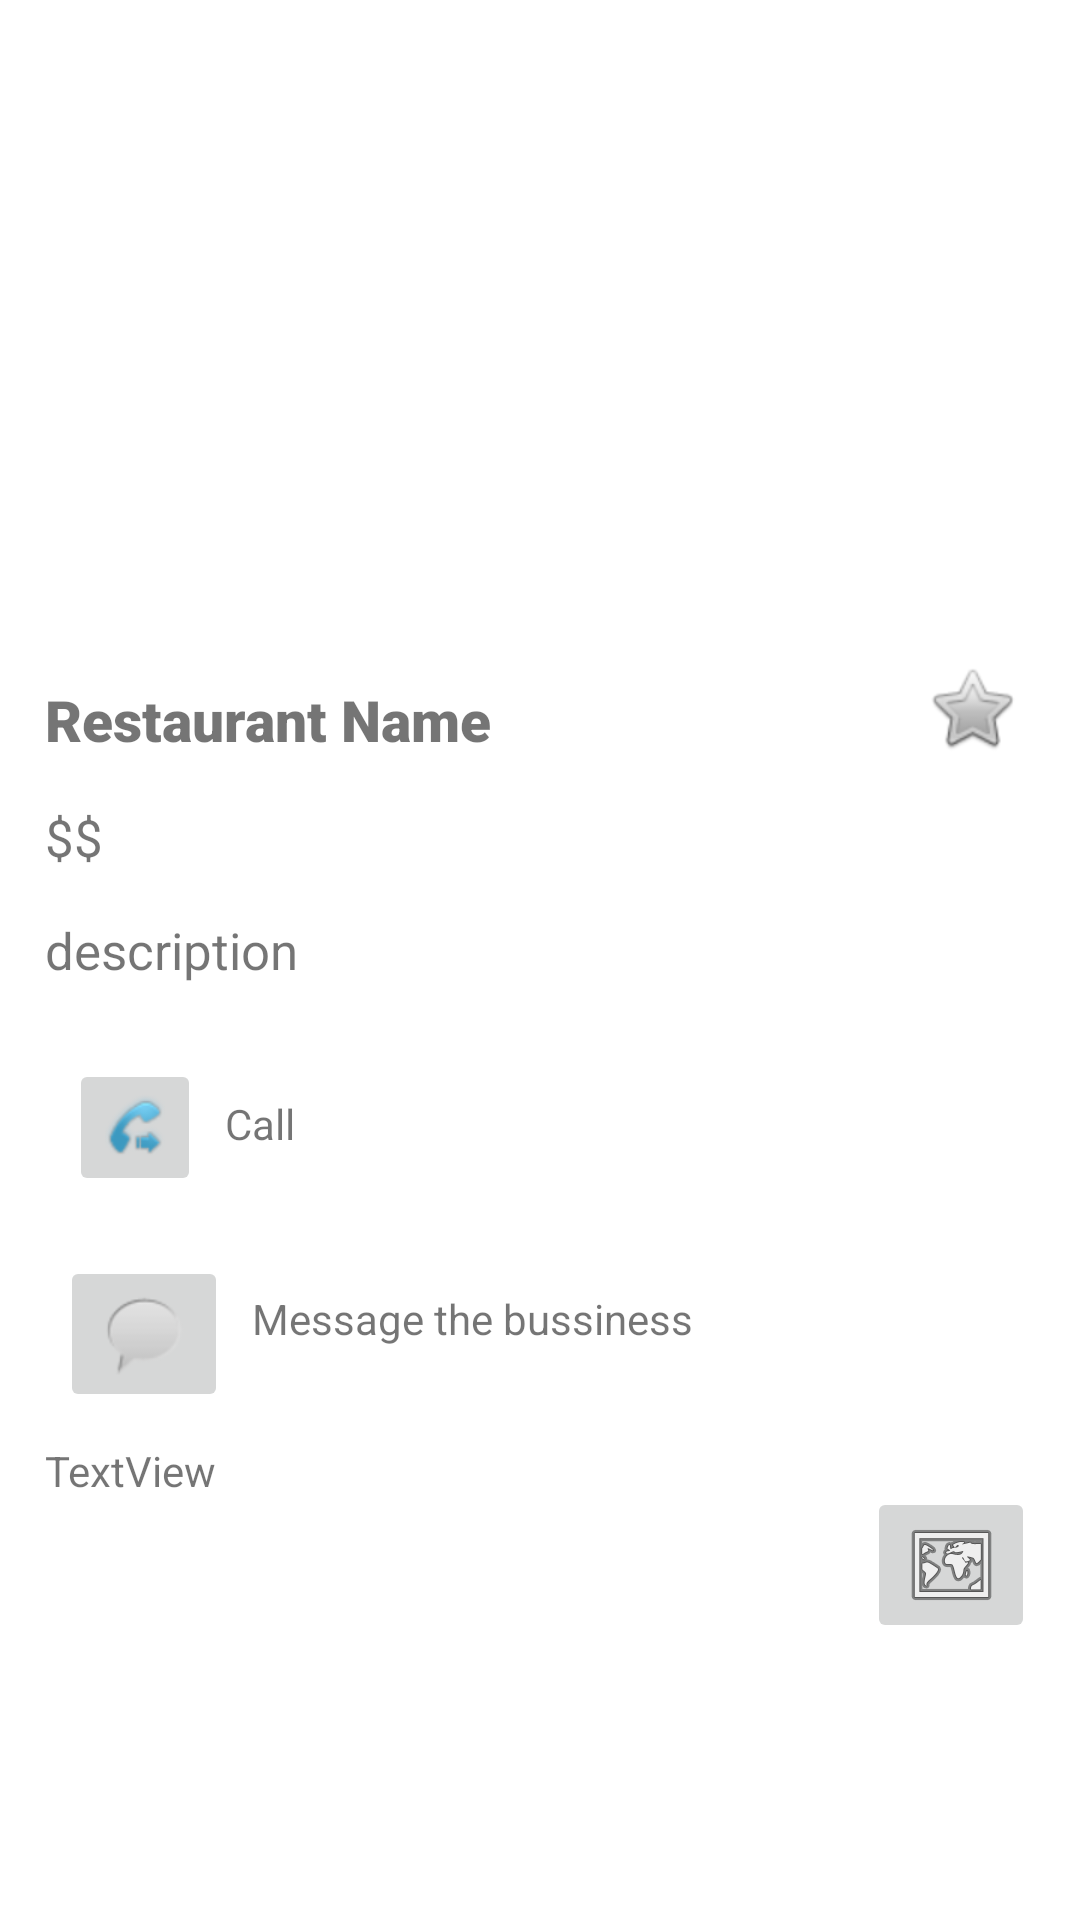

Named icons in this screenshot (1080px×1920px) and their bounding boxes, (x1, y1, x2, y2):
mapmode: (879, 1505, 1023, 1625)
star: (933, 670, 1013, 748)
sym action chat: (72, 1274, 216, 1394)
